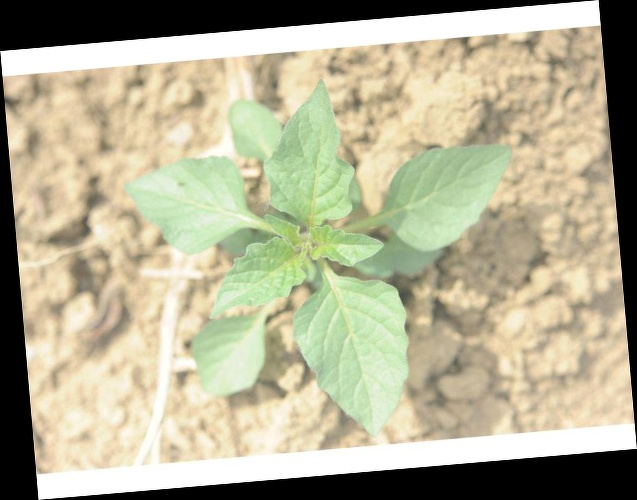nightshade: (130, 76, 522, 437)
